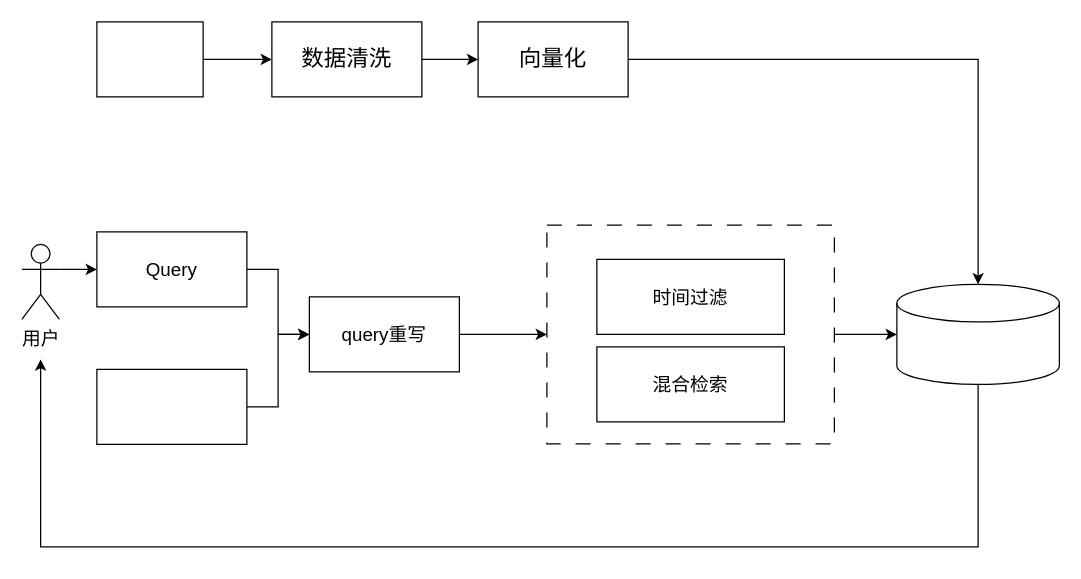
Image size: 1081x579. Some labels were removed from this diagram. The box of each missing label's shape, as (x1, y1, x2, y2) in pixels:
milvus数据库: (896, 283, 1059, 384)
prompt工程: (96, 368, 247, 444)
数据: (96, 21, 203, 97)
